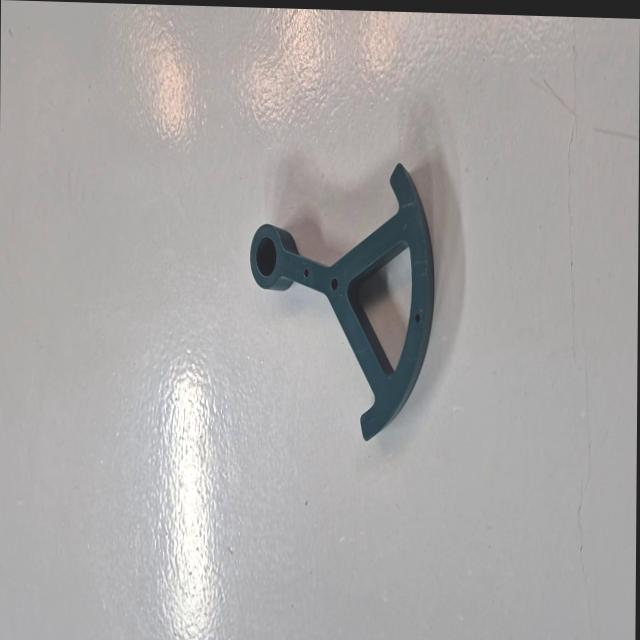haptic: (246, 156, 435, 446)
